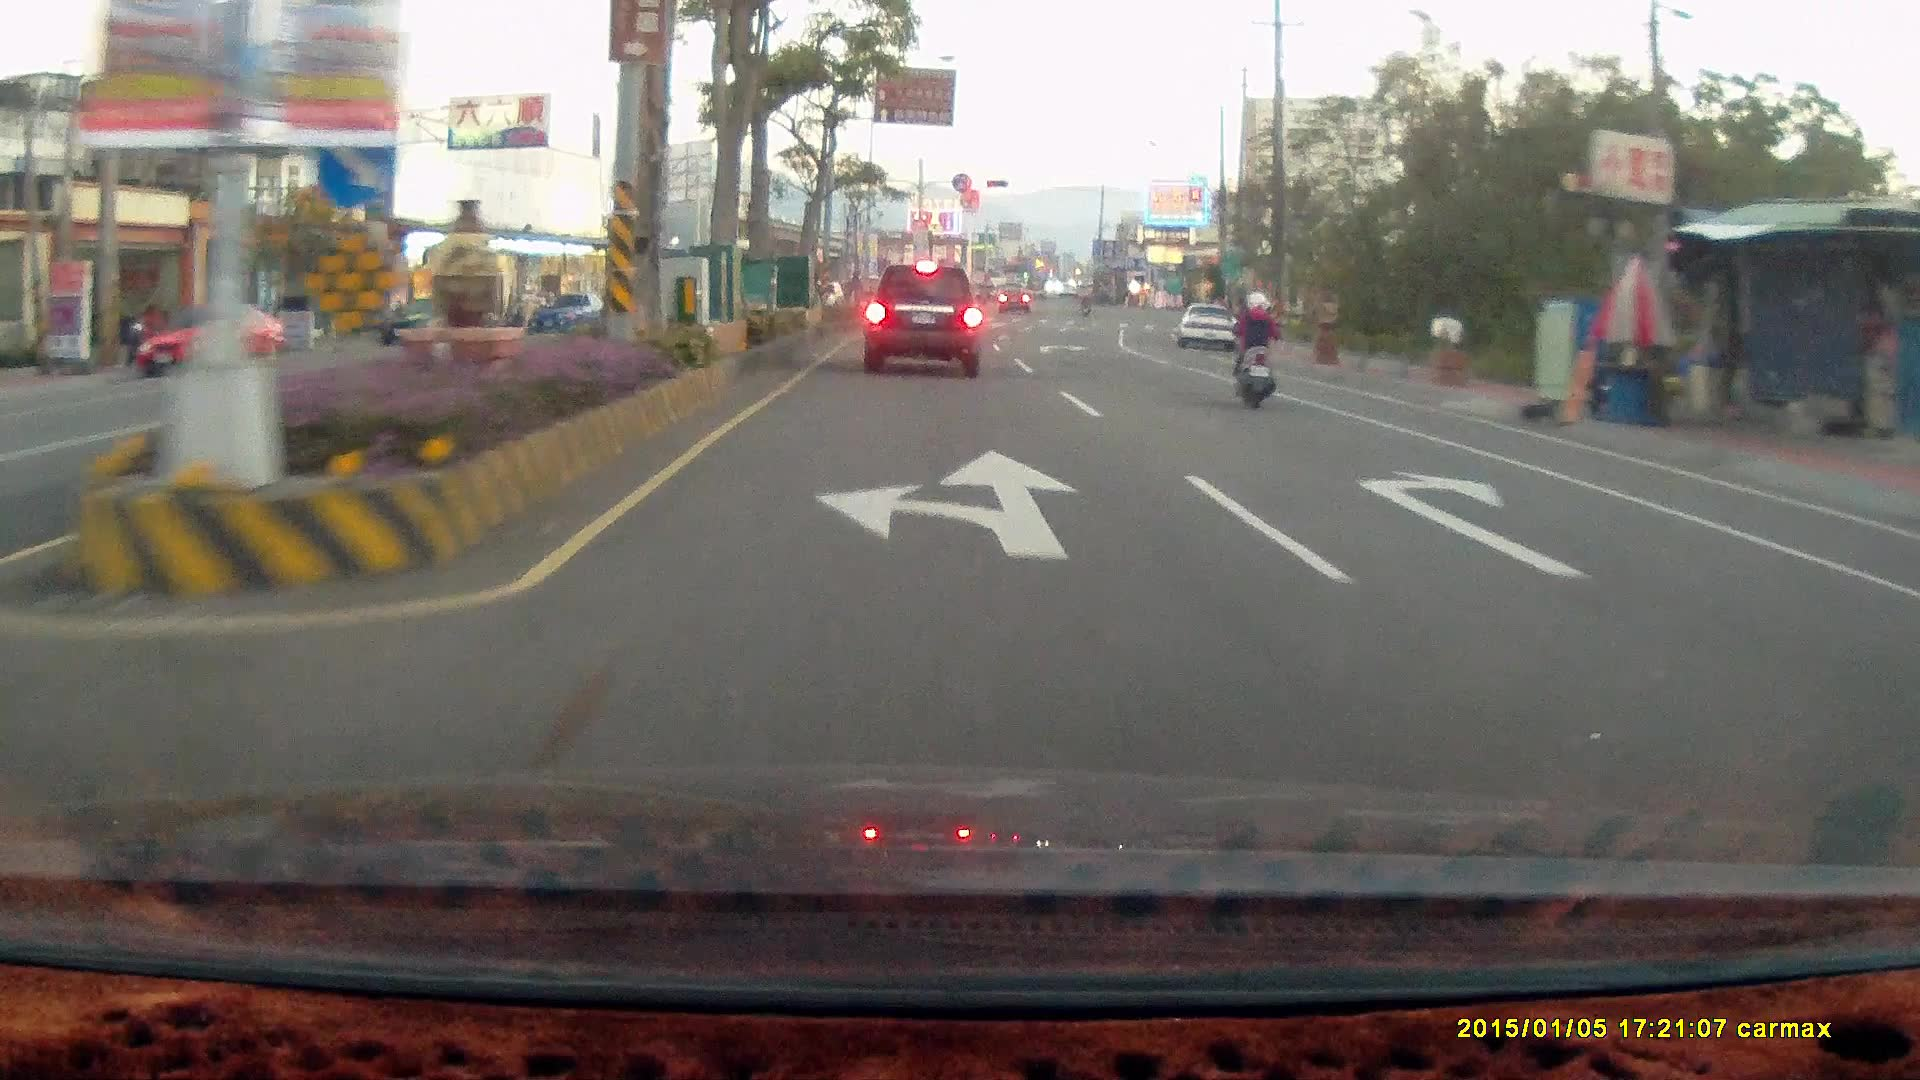rider: (1227, 287, 1283, 409)
vehicle: (863, 263, 978, 378), (134, 297, 283, 376), (1896, 493, 1920, 836), (1883, 528, 1920, 690), (386, 297, 491, 346), (1177, 304, 1238, 354), (1177, 302, 1237, 351)
